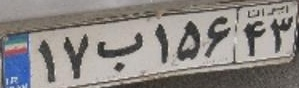character: (95, 30, 146, 74), (62, 33, 90, 84), (175, 15, 202, 63), (205, 14, 232, 62), (36, 37, 58, 85), (268, 15, 295, 54), (241, 19, 267, 58), (152, 22, 171, 66)
